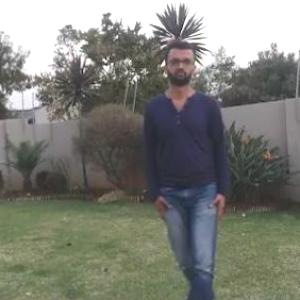follow: (146, 38, 233, 299)
